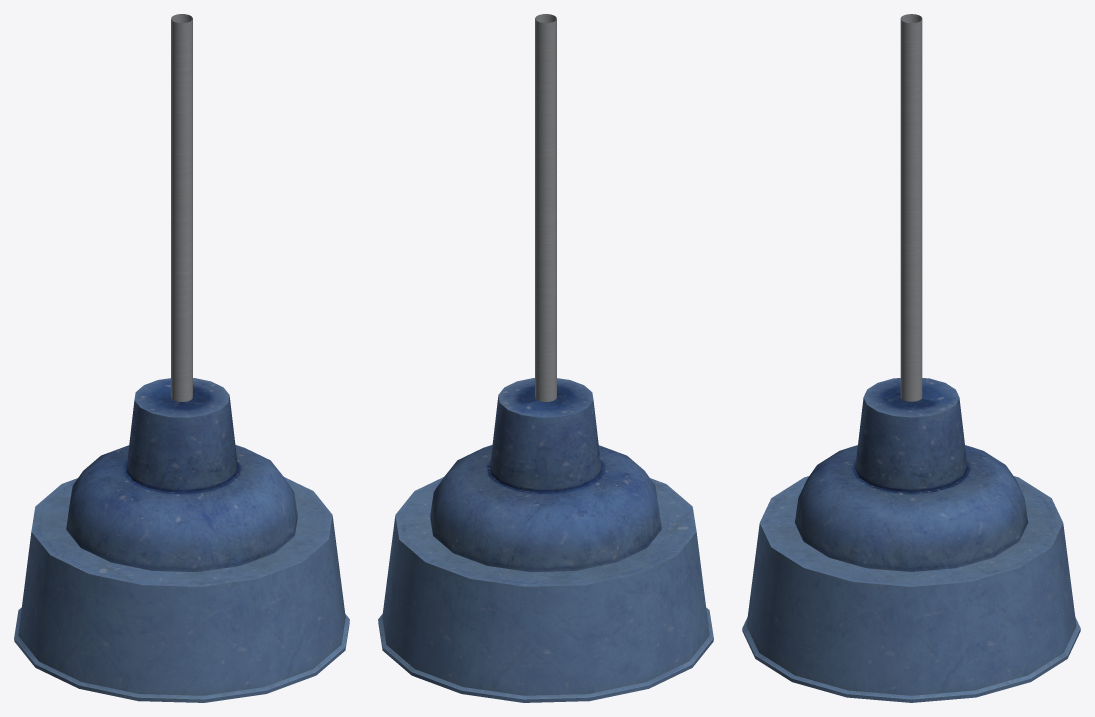
File: lampara.fbx
3 views of the same model, side by side, from view 1: azimuth 30°, elevation 25°; view 2: azimuth 150°, elevation 25°; view 3: azimuth 270°, elevation 25° (orthographic).
Visible parts, largest first — view 1: Cylinder001; view 2: Cylinder001; view 3: Cylinder001.
Boxes of the visible parts, x1,y1,x2,y2 form: Cylinder001: (14, 14, 349, 702); Cylinder001: (378, 14, 713, 702); Cylinder001: (742, 14, 1080, 702).
Size of the model in its own units: 6.25 by 12.55 by 6.25.
1 material, 1 textured.
